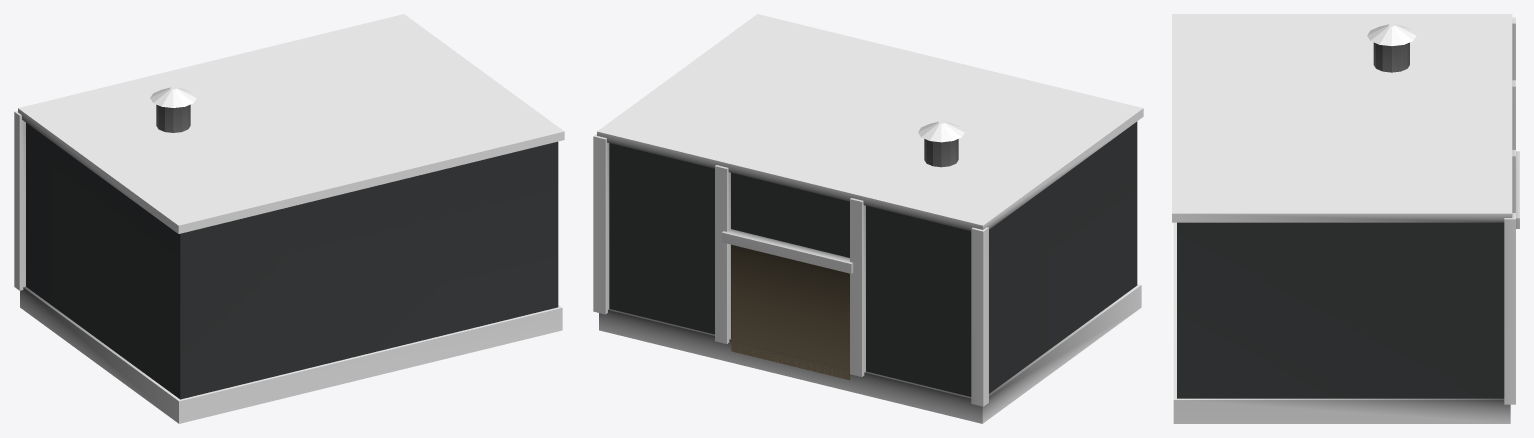
Rendered from Building_Warehouse_Depot.fbx.
3 renders of one model, left to right at view 1: azimuth 30°, elevation 25°; view 2: azimuth 150°, elevation 25°; view 3: azimuth 270°, elevation 25°, orthographic. The views are drawn at different scales.
Parts seen in each view (by area): view 1: Building_Warehouse_Depot_LOD0; view 2: Building_Warehouse_Depot_LOD0; view 3: Building_Warehouse_Depot_LOD0.
Boxes of the visible parts, x1,y1,x2,y2 form: Building_Warehouse_Depot_LOD0: (14,14,564,423); Building_Warehouse_Depot_LOD0: (593,14,1143,423); Building_Warehouse_Depot_LOD0: (1172,14,1519,423).
Size of what is drawn, in the model's own units: 14.45 by 8.38 by 10.53.
